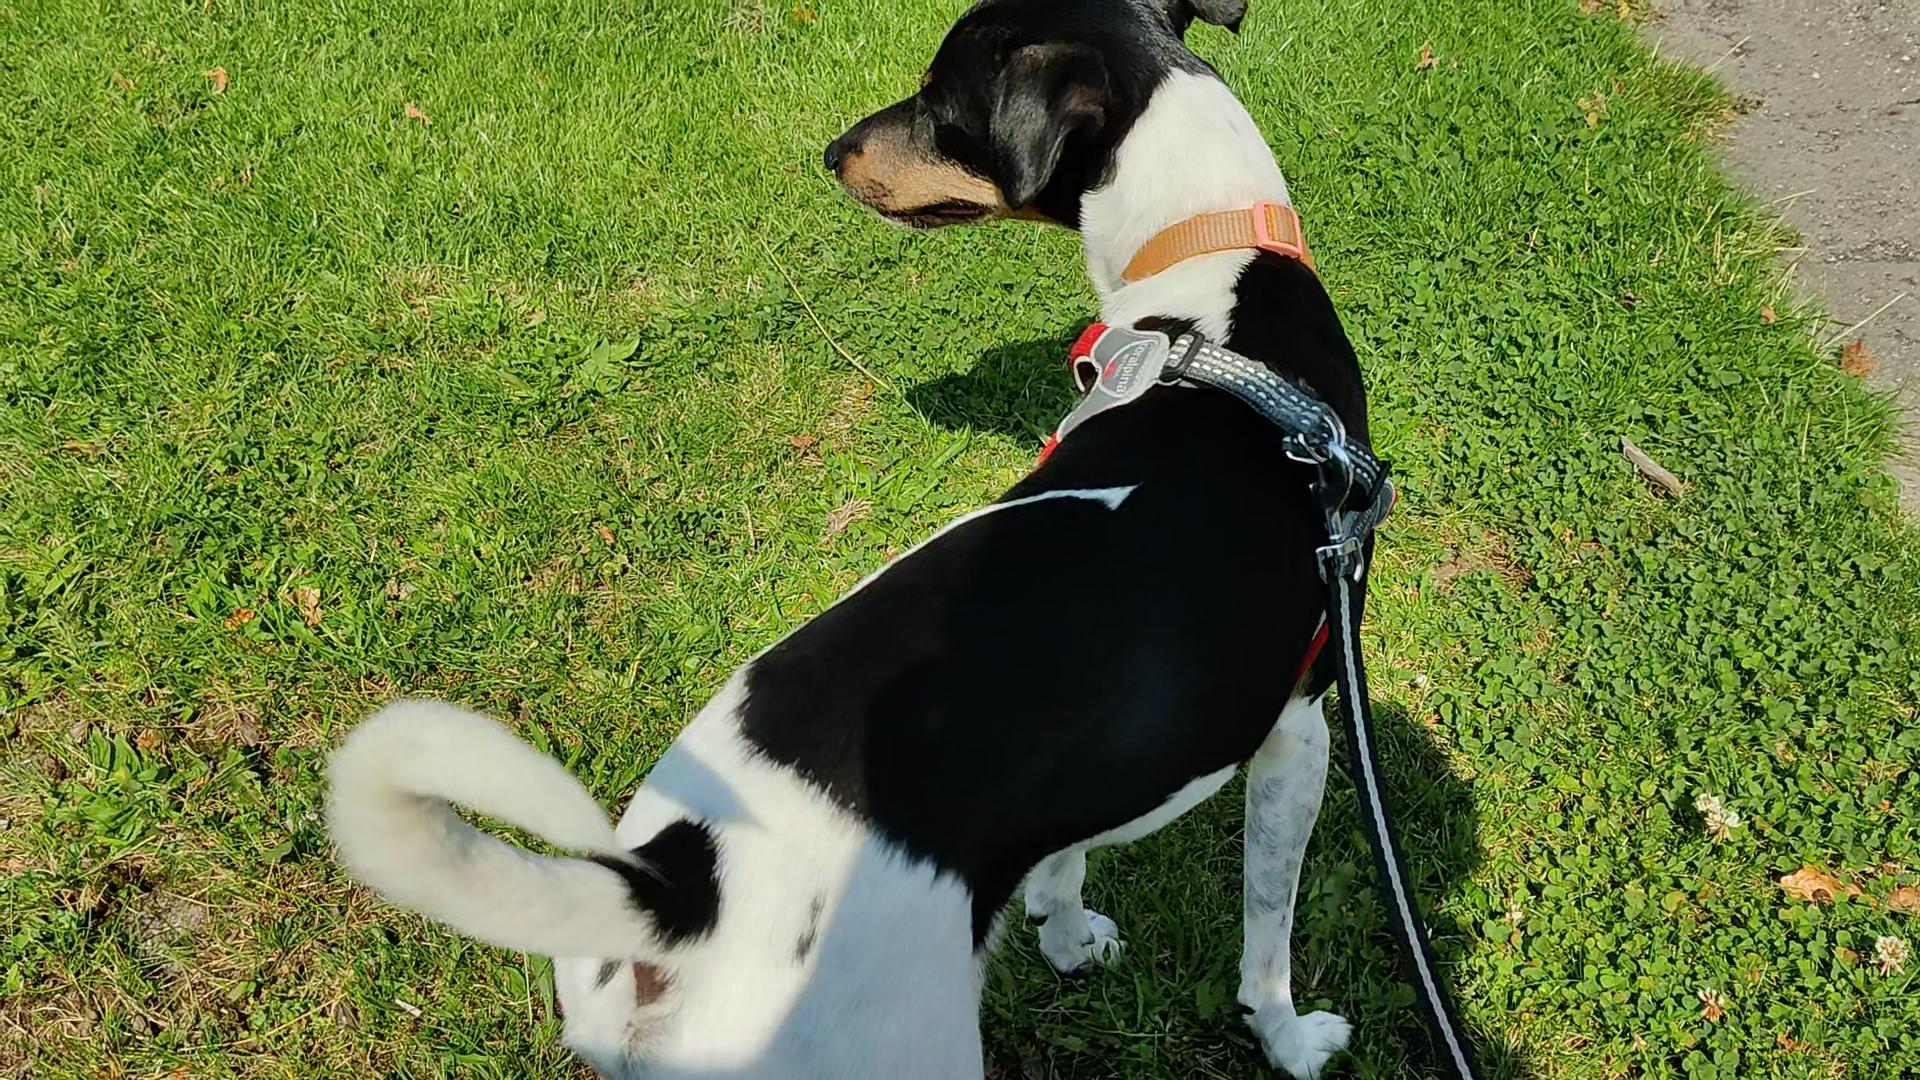Dog: (301, 0, 1412, 1079)
